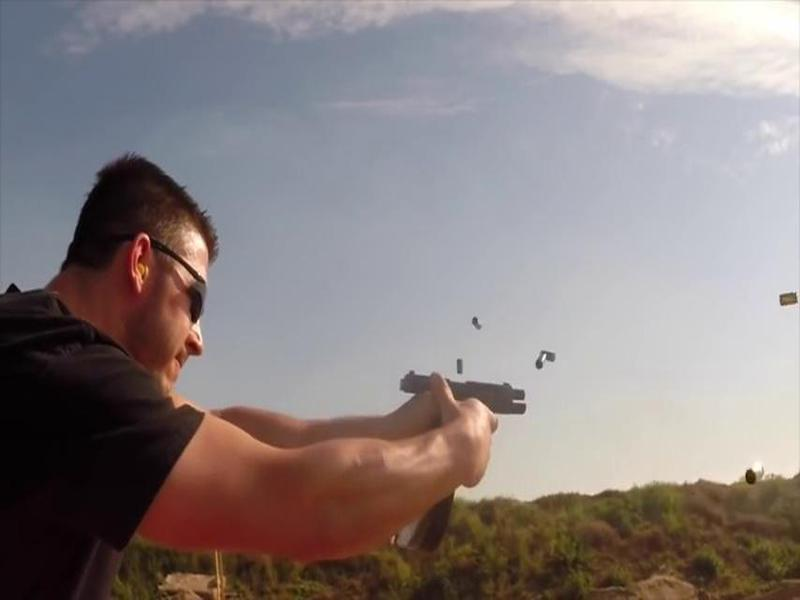Pistola: (393, 368, 546, 456)
